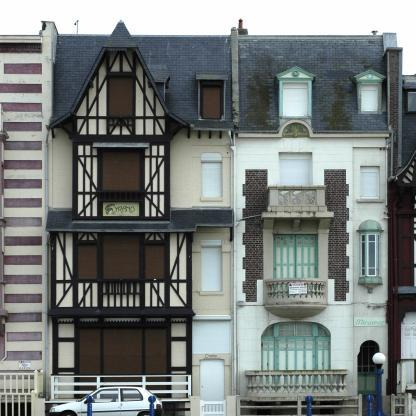Balcony: (245, 370, 349, 397), (263, 278, 328, 304), (269, 185, 326, 211)
Blind: (275, 236, 315, 297), (276, 338, 316, 393), (103, 330, 142, 373), (103, 236, 140, 279), (103, 152, 140, 190), (280, 160, 310, 204), (194, 321, 230, 353), (145, 330, 166, 373), (80, 330, 100, 373), (110, 78, 132, 116), (203, 249, 221, 291), (78, 246, 97, 279), (284, 89, 307, 116), (318, 338, 329, 393), (263, 338, 274, 393), (203, 164, 221, 197), (146, 246, 164, 279), (204, 88, 220, 118), (361, 172, 378, 196), (362, 90, 376, 110)
Building Outline: (49, 18, 403, 416)
Cornice: (275, 66, 316, 80), (78, 323, 167, 327), (108, 72, 134, 76), (145, 240, 165, 244), (78, 240, 97, 244), (203, 82, 223, 85)
Deco: (103, 202, 139, 217), (282, 122, 309, 138), (353, 318, 385, 326)
Dont: (49, 386, 164, 416), (365, 353, 388, 416)
Door: (275, 236, 315, 297), (276, 338, 316, 393), (200, 360, 225, 415), (357, 340, 379, 395)
Facade: (49, 34, 390, 416)
Floor: (49, 217, 389, 307), (49, 139, 389, 211)
Floor Slab: (49, 134, 389, 139), (49, 212, 389, 217), (49, 306, 389, 311)
Ground Floor: (49, 311, 389, 416)
Molding: (58, 318, 186, 323)
Roof: (49, 19, 234, 129), (238, 35, 388, 130), (45, 209, 233, 232)
Sill: (201, 197, 223, 202), (199, 291, 224, 295)
Top Floor: (58, 35, 390, 134)
Window: (103, 330, 142, 373), (103, 236, 140, 279), (103, 152, 140, 190), (280, 160, 310, 204), (194, 321, 230, 353), (360, 233, 381, 277), (145, 330, 166, 373), (80, 330, 100, 373), (110, 78, 132, 116), (203, 249, 221, 291), (78, 246, 97, 279), (284, 89, 307, 116), (318, 338, 329, 393), (263, 338, 274, 393), (146, 246, 164, 279), (203, 164, 221, 197), (204, 88, 220, 118), (279, 322, 312, 336), (361, 172, 378, 196), (354, 70, 387, 82), (362, 90, 376, 110), (263, 326, 273, 336), (318, 326, 329, 335)
